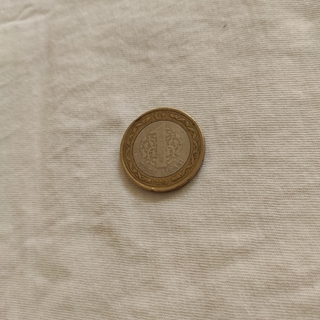1TL: (117, 104, 206, 196)
